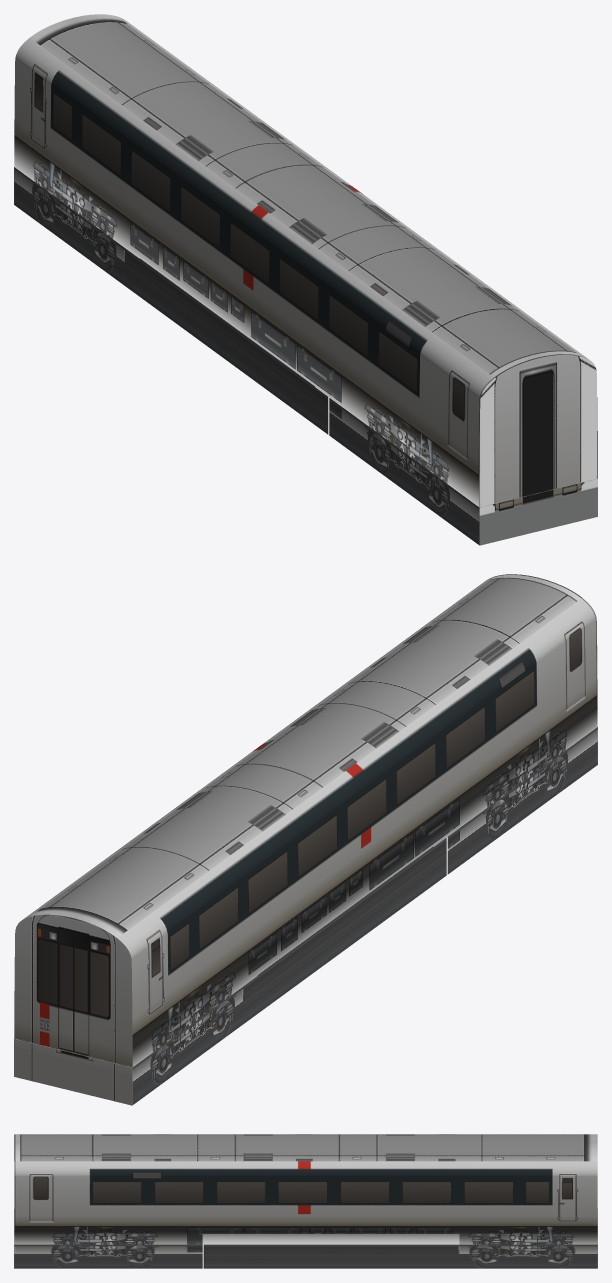
File: car6.glb
3 views of the same model, one above another, from view 1: azimuth 30°, elevation 25°; view 2: azimuth 150°, elevation 25°; view 3: azimuth 270°, elevation 25° (orthographic). The views are drawn at different scales.
Visible parts, largest first — view 1: odakyu-30000-car6; view 2: odakyu-30000-car6; view 3: odakyu-30000-car6.
Boxes of the visible parts, <box> form: odakyu-30000-car6: <box>14,14,597,545</box>; odakyu-30000-car6: <box>14,574,597,1105</box>; odakyu-30000-car6: <box>14,1134,597,1268</box>.
Size of the model in its own units: 2.9 by 4.05 by 19.78.
9 materials, 8 textured.
